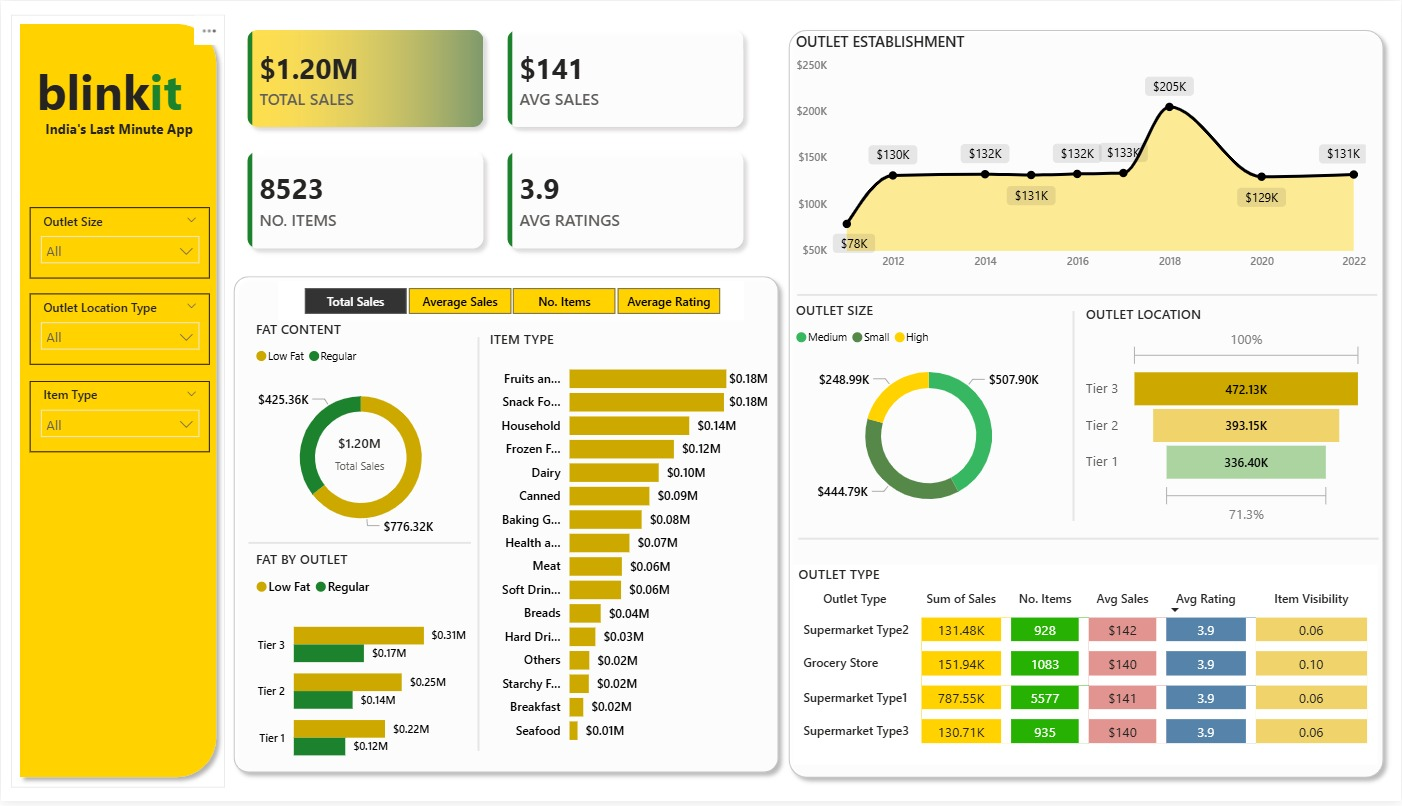

Layout of this report page (visuals, bound fields, positions):
{"tool":"powerbi","page":{"name":"Blinkit","canvas":[1400,800],"ordinal":0},"visuals":[{"type":"shape","box":[10,14.3,214.3,771.4],"z":0},{"type":"textbox","box":[28,52.1,161.5,76.3],"z":1000},{"type":"textbox","box":[27.1,114.3,181.4,28.6],"z":2000},{"type":"cardVisual","fields":{"Data":["BlinkIT Grocery Data.Total Sales","BlinkIT Grocery Data.Average Sales","BlinkIT Grocery Data.No. Items","BlinkIT Grocery Data.Average Rating"]},"box":[217.1,0,554.3,277.1],"z":3000},{"type":"shape","box":[224.3,265.7,562.9,514.3],"z":4000},{"type":"donutChart","title":"FAT CONTENT","fields":{"Y":["BlinkIT Grocery Data.Total Sales"],"Category":["BlinkIT Grocery Data.Item Fat Content"]},"box":[250.5,319.2,220,230.2],"z":5000},{"type":"slicer","fields":{"Values":["Metrix.Metrix"]},"box":[277.3,279.8,465.5,39.4],"z":6000},{"type":"card","fields":{"Values":["BlinkIT Grocery Data.Total Sales"]},"box":[304.4,426.2,107.6,51],"z":7000},{"type":"clusteredBarChart","title":"FAT BY OUTLET","fields":{"Y":["BlinkIT Grocery Data.Total Sales"],"Category":["BlinkIT Grocery Data.Outlet Location Type"],"Series":["BlinkIT Grocery Data.Item Fat Content"]},"box":[250,548.6,220,231.4],"z":8000},{"type":"shape","box":[247.5,535,222.5,13.8],"z":9000},{"type":"shape","box":[470,336.2,15,413.8],"z":10000},{"type":"barChart","title":"ITEM TYPE","fields":{"Y":["BlinkIT Grocery Data.Total Sales"],"Category":["BlinkIT Grocery Data.Item Type"]},"box":[483.3,328.3,288.3,425],"z":11000},{"type":"shape","box":[778.6,20,612.9,765.7],"z":12000},{"type":"lineChart","title":"OUTLET ESTABLISHMENT","fields":{"Category":["BlinkIT Grocery Data.Outlet Establishment Year"],"Y":["BlinkIT Grocery Data.Total Sales"]},"box":[790,30,580,247.1],"z":13000},{"type":"shape","box":[795.7,287.1,580,12.9],"z":14000},{"type":"donutChart","title":"OUTLET SIZE","fields":{"Y":["BlinkIT Grocery Data.Total Sales"],"Category":["BlinkIT Grocery Data.Outlet Size"]},"box":[790,300,275.7,224.3],"z":15000},{"type":"shape","box":[1062.4,310,20,210],"z":16000},{"type":"funnel","title":"OUTLET LOCATION","fields":{"Y":["Sum(BlinkIT Grocery Data.Sales)"],"Category":["BlinkIT Grocery Data.Outlet Location Type"]},"box":[1079.6,304.3,287.1,224.3],"z":17000},{"type":"shape","box":[797.1,531.4,580,12.9],"z":18000},{"type":"pivotTable","title":"OUTLET TYPE","fields":{"Rows":["BlinkIT Grocery Data.Outlet Type"],"Values":["Sum(BlinkIT Grocery Data.Sales)","BlinkIT Grocery Data.No. Items","BlinkIT Grocery Data.Average Sales","BlinkIT Grocery Data.Average Rating","Avg(BlinkIT Grocery Data.Item Visibility)"]},"box":[792.9,564.3,584.3,200],"z":19000},{"type":"slicer","fields":{"Values":["BlinkIT Grocery Data.Outlet Location Type"]},"box":[28.2,292.9,180,71.4],"z":20000},{"type":"slicer","fields":{"Values":["BlinkIT Grocery Data.Outlet Size"]},"box":[28.2,205.7,180,71.4],"z":21000},{"type":"slicer","fields":{"Values":["BlinkIT Grocery Data.Item Type"]},"box":[28.2,380,180,71.4],"z":22000}]}

Visuals, with their boxes in screenshot pixels (x1, y1, x2, y2), scaled from the page's 1400x800 canvas onto the 1402x806 screenshot:
shape: x1=10 y1=14 x2=225 y2=792
textbox: x1=28 y1=52 x2=190 y2=129
textbox: x1=27 y1=115 x2=209 y2=144
cardVisual - BlinkIT Grocery Data.Total Sales x BlinkIT Grocery Data.Average Sales: x1=217 y1=0 x2=773 y2=279
shape: x1=225 y1=268 x2=788 y2=786
"FAT CONTENT" donutChart: x1=251 y1=322 x2=471 y2=554
slicer - Metrix.Metrix: x1=278 y1=282 x2=744 y2=322
card - BlinkIT Grocery Data.Total Sales: x1=305 y1=429 x2=413 y2=481
"FAT BY OUTLET" clusteredBarChart: x1=250 y1=553 x2=471 y2=786
shape: x1=248 y1=539 x2=471 y2=553
shape: x1=471 y1=339 x2=486 y2=756
"ITEM TYPE" barChart: x1=484 y1=331 x2=773 y2=759
shape: x1=780 y1=20 x2=1393 y2=792
"OUTLET ESTABLISHMENT" lineChart: x1=791 y1=30 x2=1372 y2=279
shape: x1=797 y1=289 x2=1378 y2=302
"OUTLET SIZE" donutChart: x1=791 y1=302 x2=1067 y2=528
shape: x1=1064 y1=312 x2=1084 y2=524
"OUTLET LOCATION" funnel: x1=1081 y1=307 x2=1369 y2=533
shape: x1=798 y1=535 x2=1379 y2=548
"OUTLET TYPE" pivotTable: x1=794 y1=569 x2=1379 y2=770
slicer - BlinkIT Grocery Data.Outlet Location Type: x1=28 y1=295 x2=208 y2=367
slicer - BlinkIT Grocery Data.Outlet Size: x1=28 y1=207 x2=208 y2=279
slicer - BlinkIT Grocery Data.Item Type: x1=28 y1=383 x2=208 y2=455
